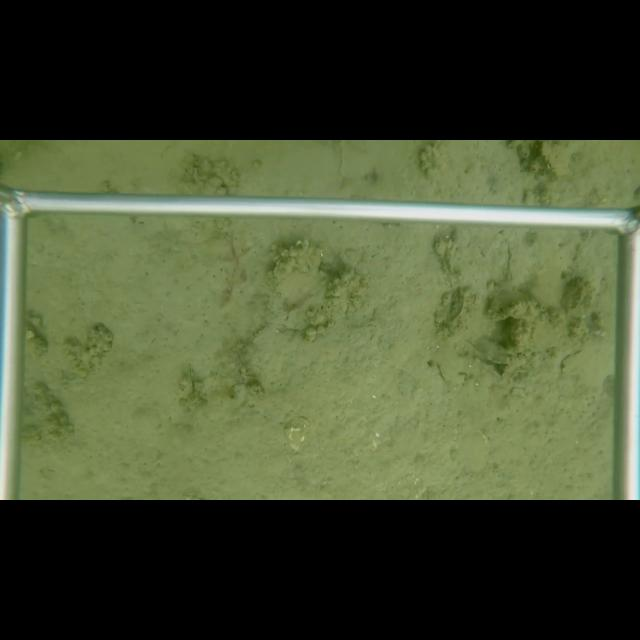Oyster-Closed: (266, 242, 335, 307), (449, 287, 467, 322)
